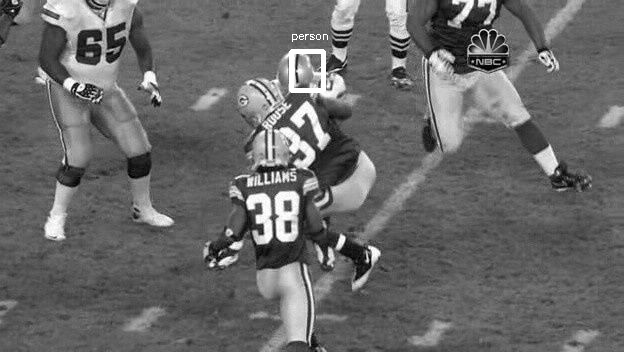person: (279, 55, 312, 97), (278, 55, 311, 97), (280, 55, 313, 97), (279, 54, 312, 96), (279, 56, 312, 98)
target_negative: (324, 63, 519, 262), (334, 46, 477, 307), (355, 73, 525, 246), (291, 204, 387, 237), (525, 94, 540, 189), (557, 242, 622, 255)
